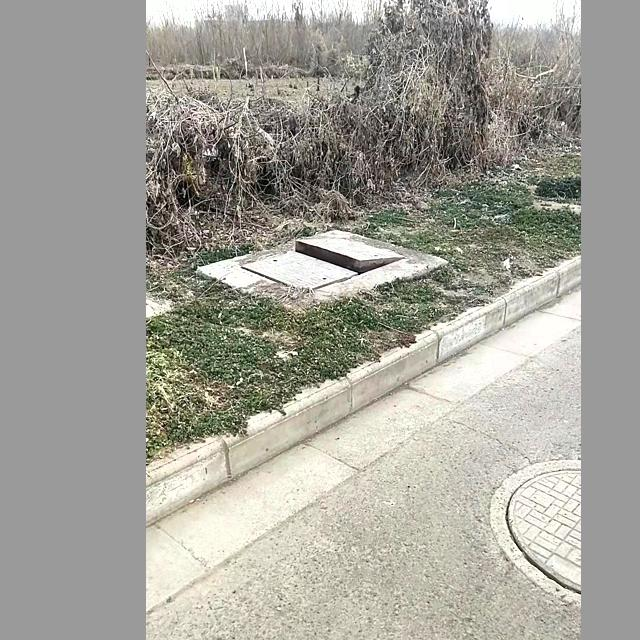good: (490, 461, 581, 612)
uncovered: (238, 227, 399, 294)
